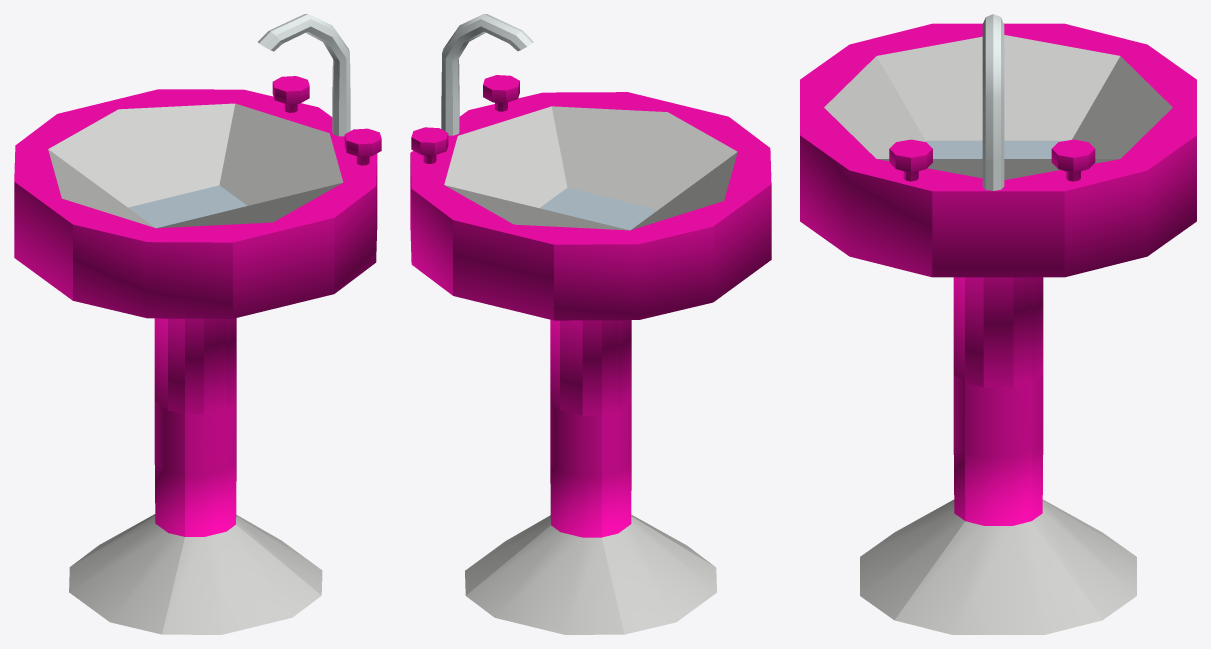
File: sink.fbx
The picture shows the model from 3 angles, left to right: view 1: azimuth 30°, elevation 25°; view 2: azimuth 150°, elevation 25°; view 3: azimuth 270°, elevation 25°; orthographic projection. The views are drawn at different scales.
Parts seen in each view (by area): view 1: pCylinder7; view 2: pCylinder7; view 3: pCylinder7.
Boxes of the visible parts, x1,y1,x2,y2 form: pCylinder7: [14, 14, 381, 634]; pCylinder7: [410, 14, 771, 634]; pCylinder7: [800, 14, 1196, 634].
Bounding box in the file's own units: 1.73 × 2.94 × 1.73.
